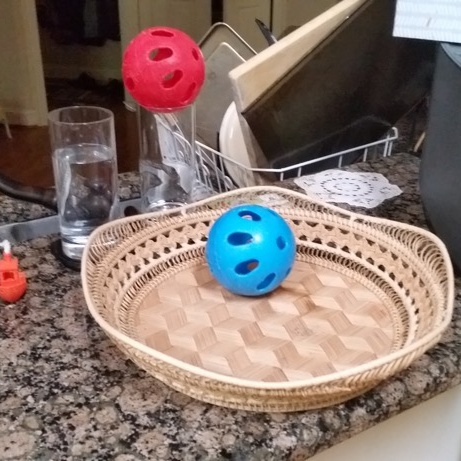ball: (200, 197, 302, 299), (115, 24, 209, 112)
